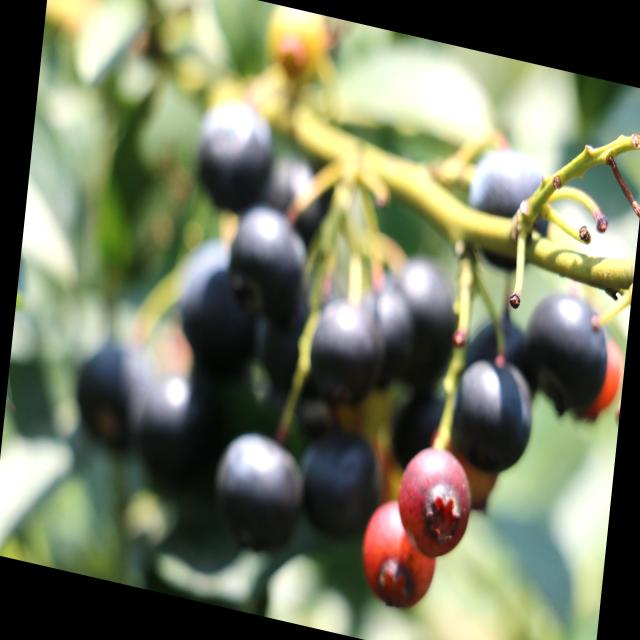blueberry: (200, 416, 316, 566), (514, 277, 618, 432), (130, 356, 233, 509), (460, 132, 560, 288), (377, 242, 468, 407), (173, 234, 264, 386), (222, 192, 318, 333), (294, 415, 388, 554), (187, 87, 282, 224), (447, 346, 541, 484), (246, 271, 332, 414), (68, 328, 156, 467), (302, 285, 392, 409), (248, 141, 341, 253), (456, 303, 546, 413), (384, 381, 462, 480), (352, 278, 419, 381)
blueberry-halfripe: (356, 494, 445, 622), (393, 442, 478, 564)
